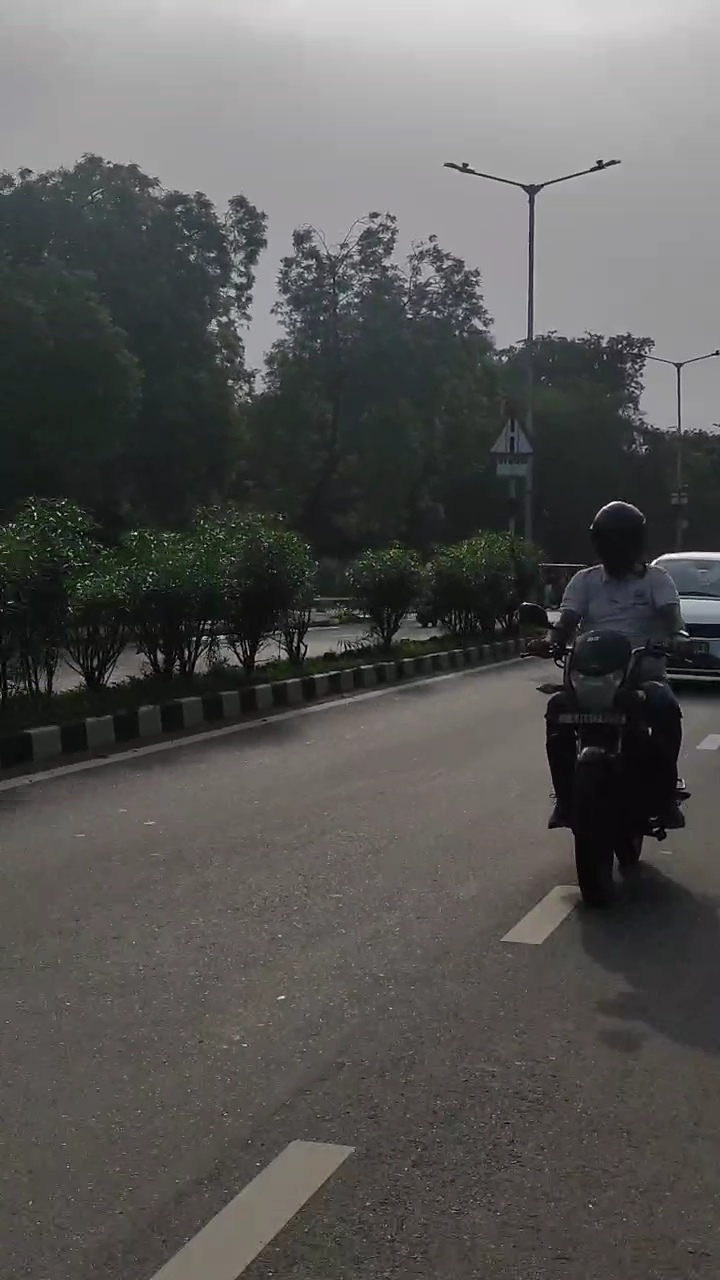BikeWithRider: (510, 491, 699, 918)
Helmet: (580, 493, 654, 572)
